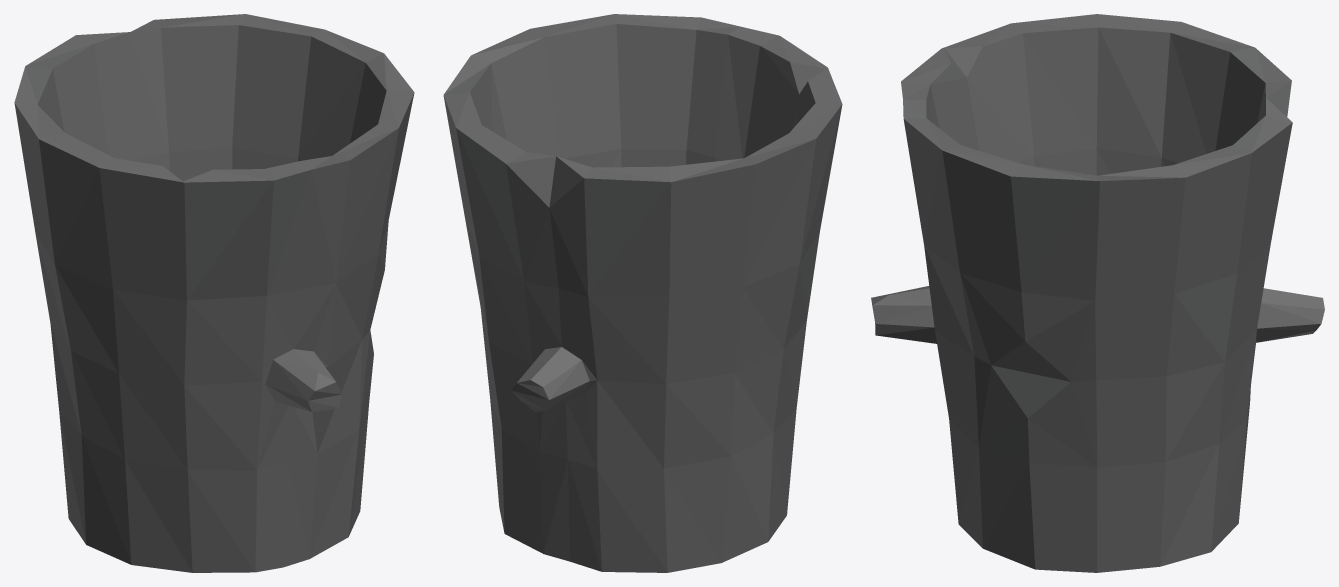
File: SFHW_Herbalism_Tools_007.fbx
3 views of the same model, side by side, from view 1: azimuth 30°, elevation 25°; view 2: azimuth 150°, elevation 25°; view 3: azimuth 270°, elevation 25° (orthographic).
Visible parts, largest first — view 1: SFHW_Herbalism_Tools_007; view 2: SFHW_Herbalism_Tools_007; view 3: SFHW_Herbalism_Tools_007.
Boxes of the visible parts, x1,y1,x2,y2 form: SFHW_Herbalism_Tools_007: [14, 14, 414, 572]; SFHW_Herbalism_Tools_007: [443, 14, 842, 572]; SFHW_Herbalism_Tools_007: [871, 14, 1324, 572].
Size of the model in its own units: 13.56 by 15.78 by 15.54.
